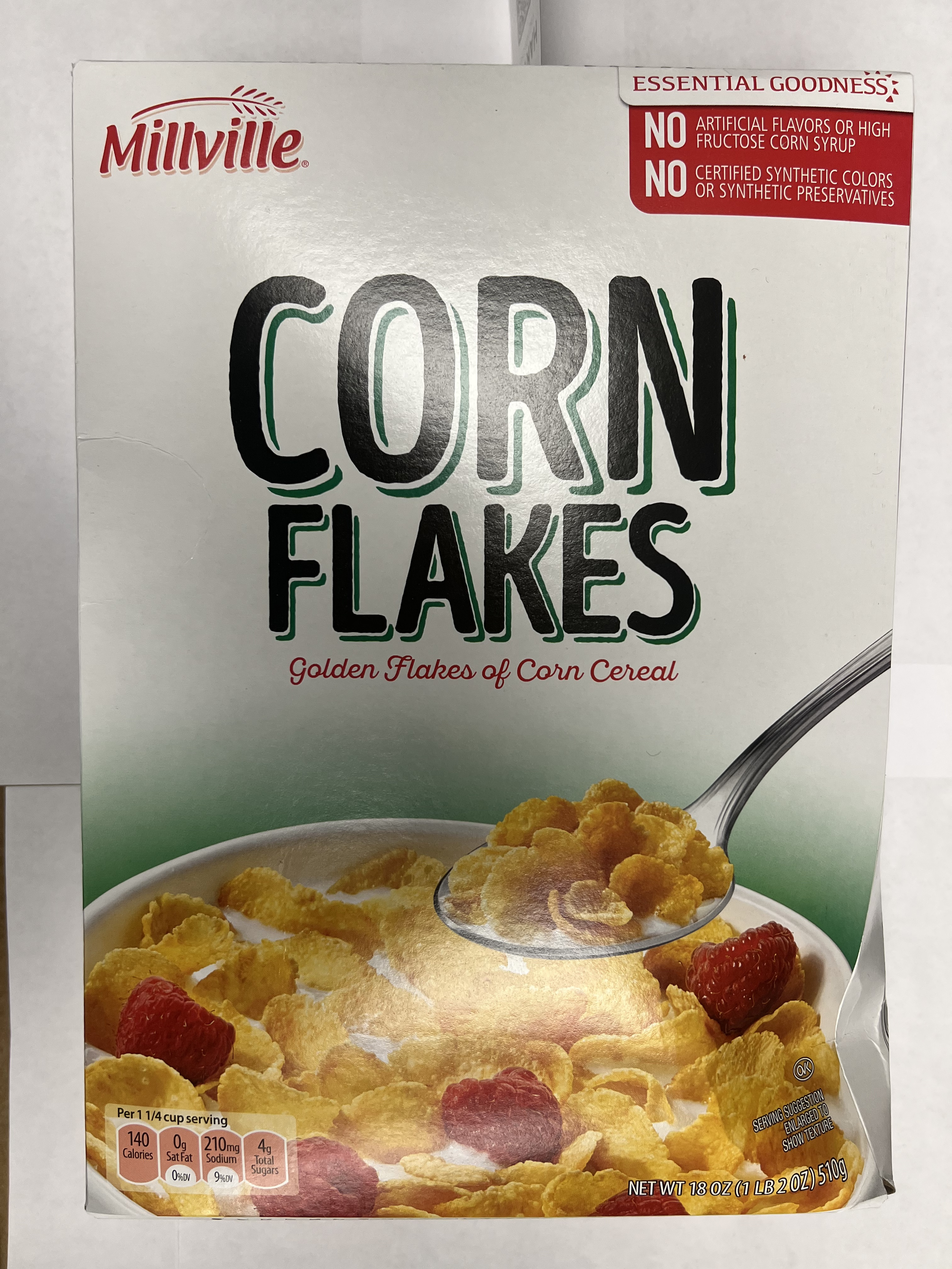packaged: (57, 53, 919, 1230)
